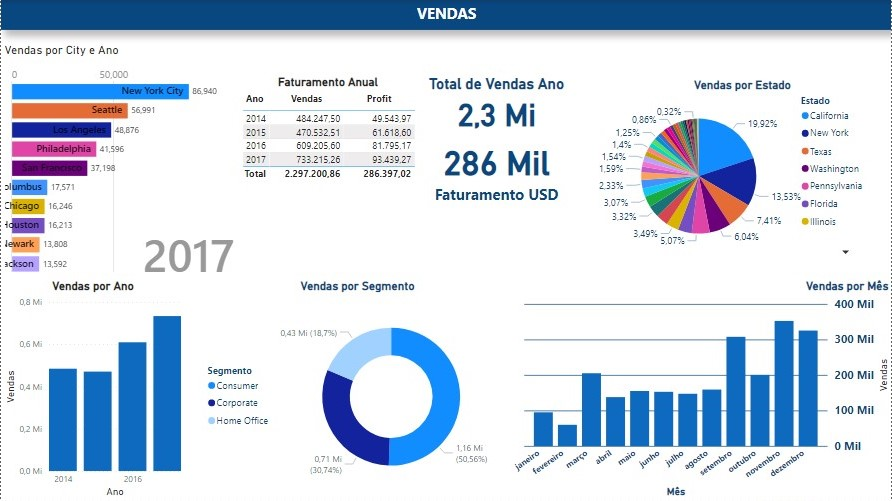

The dashboard page shown, as its layout file describes it:
{"tool":"powerbi","page":{"name":"Vendas","canvas":[1280,720],"ordinal":4},"visuals":[{"type":"columnChart","fields":{"Y":["Sum(Orders.Vendas)"],"Category":["Orders.Order Date.Variation.Hierarquia de datas.Ano"]},"box":[0,401,264.4,319],"z":0},{"type":"tableEx","title":"Faturamento Anual","fields":{"Values":["Orders.Order Date.Variation.Hierarquia de datas.Ano","Sum(Orders.Vendas)","Sum(Orders.Profit)"]},"box":[337.7,107.8,264.4,188.3],"z":1000},{"type":"textbox","box":[0,0,1280.5,43.1],"z":2000},{"type":"donutChart","title":"Vendas por Segmento","fields":{"Y":["Sum(Orders.Sales)"],"Category":["Orders.Segment"]},"box":[291.7,401,441.2,319],"z":3000},{"type":"card","fields":{"Values":["Sum(Orders.Profit)"]},"box":[602.2,189.7,219.9,106.3],"z":4000},{"type":"card","title":"Total de Vendas Ano","fields":{"Values":["Sum(Orders.Sales)"]},"box":[602.2,107.8,219.9,81.9],"z":5000},{"type":"pieChart","title":"Vendas por Estado","fields":{"Category":["Orders.State"],"Y":["Sum(Orders.Vendas)"]},"box":[850.8,112.1,429.7,263],"z":6000},{"type":"clusteredColumnChart","title":"Vendas por Mês","fields":{"Y":["Sum(Orders.Sales)"],"Category":["Orders.Order Date.Variation.Hierarquia de datas.Mês"]},"box":[732.9,401,547.5,319],"z":7000},{"type":"wishyoulizationbarchartrace","fields":{"name":["Orders.City"],"value":["Sum(Orders.Vendas)"],"year":["Orders.Order Date.Variation.Hierarquia de datas.Ano"]},"box":[0,61.8,347.8,339.2],"z":8000}]}

Visuals, with their boxes in screenshot pixels (x1, y1, x2, y2), scaled from the page's 1280x720 canvas onto the 892x501 screenshot:
columnChart - Sum(Orders.Vendas) x Orders.Order Date.Variation.Hierarquia de datas.Ano: [x1=0, y1=279, x2=184, y2=500]
"Faturamento Anual" tableEx: [x1=235, y1=75, x2=420, y2=206]
textbox: [x1=0, y1=0, x2=891, y2=30]
"Vendas por Segmento" donutChart: [x1=203, y1=279, x2=511, y2=500]
card - Sum(Orders.Profit): [x1=420, y1=132, x2=573, y2=206]
"Total de Vendas Ano" card: [x1=420, y1=75, x2=573, y2=132]
"Vendas por Estado" pieChart: [x1=593, y1=78, x2=891, y2=261]
"Vendas por Mês" clusteredColumnChart: [x1=511, y1=279, x2=891, y2=500]
wishyoulizationbarchartrace - Orders.City x Sum(Orders.Vendas): [x1=0, y1=43, x2=242, y2=279]
